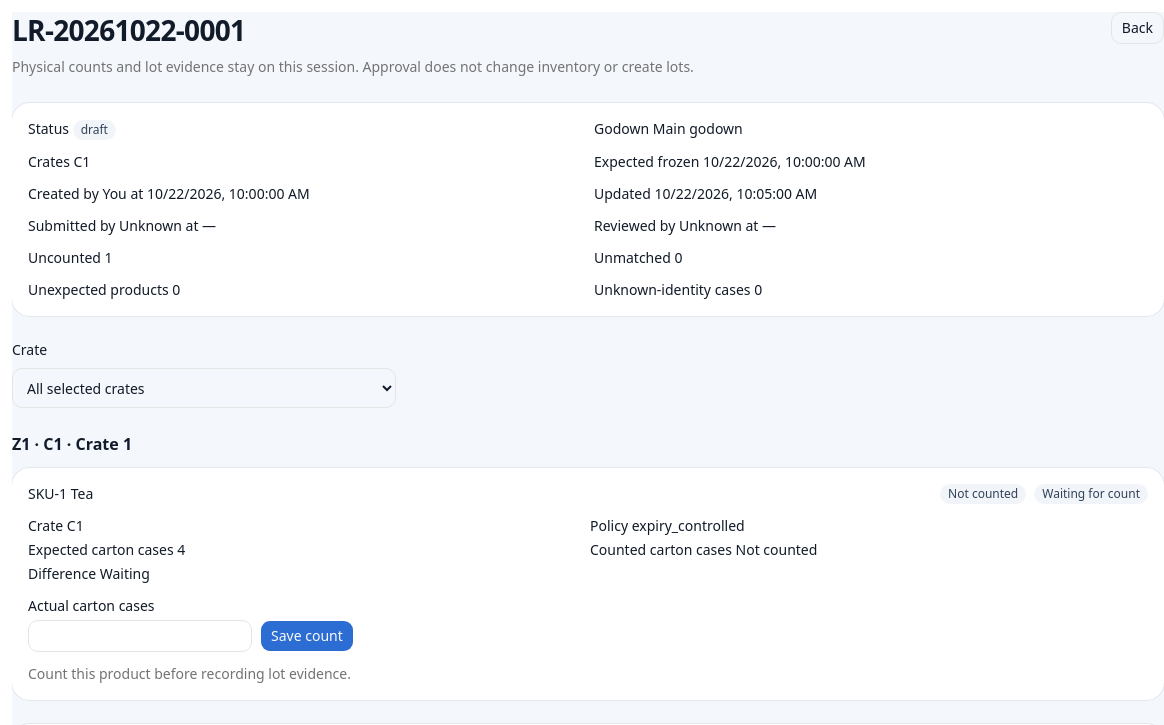
Test: lot reconciliation pages › refetches on PT409 and does not replay the stale count
The image size is (1164, 725).
Type "4" into the field named "Count SKU-1". click: (140, 636)
box: [28,620,252,652]
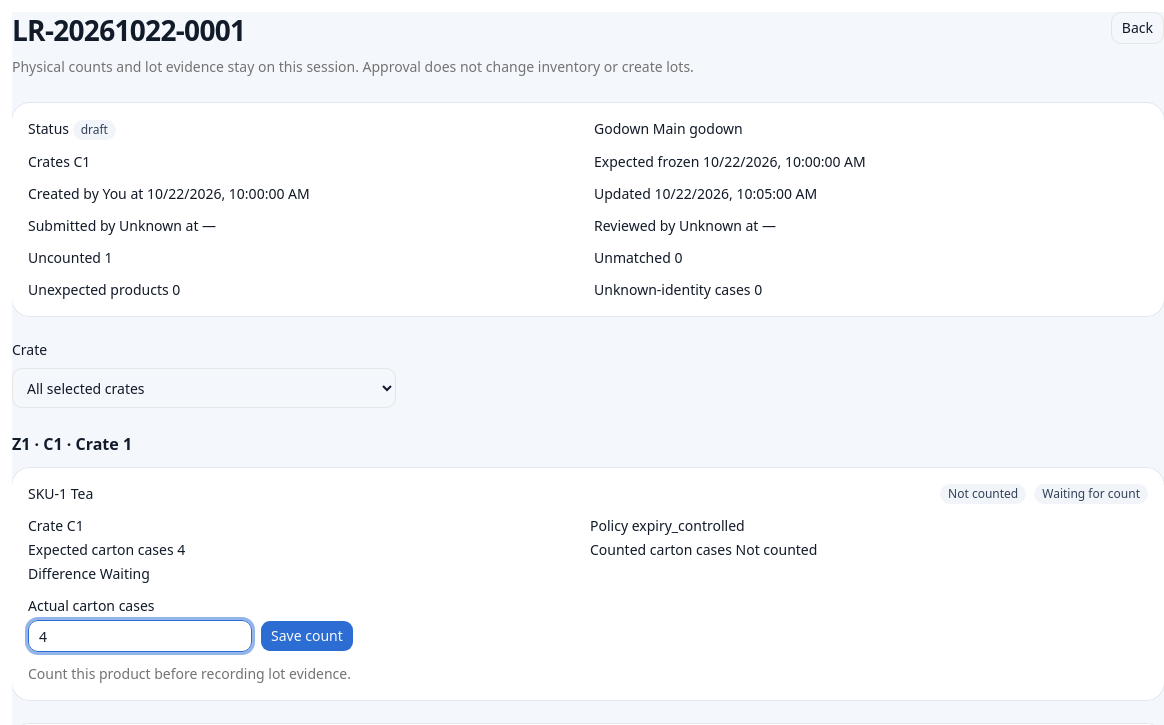
Click the button "Save count". click: (307, 636)
box: [260,620,354,652]
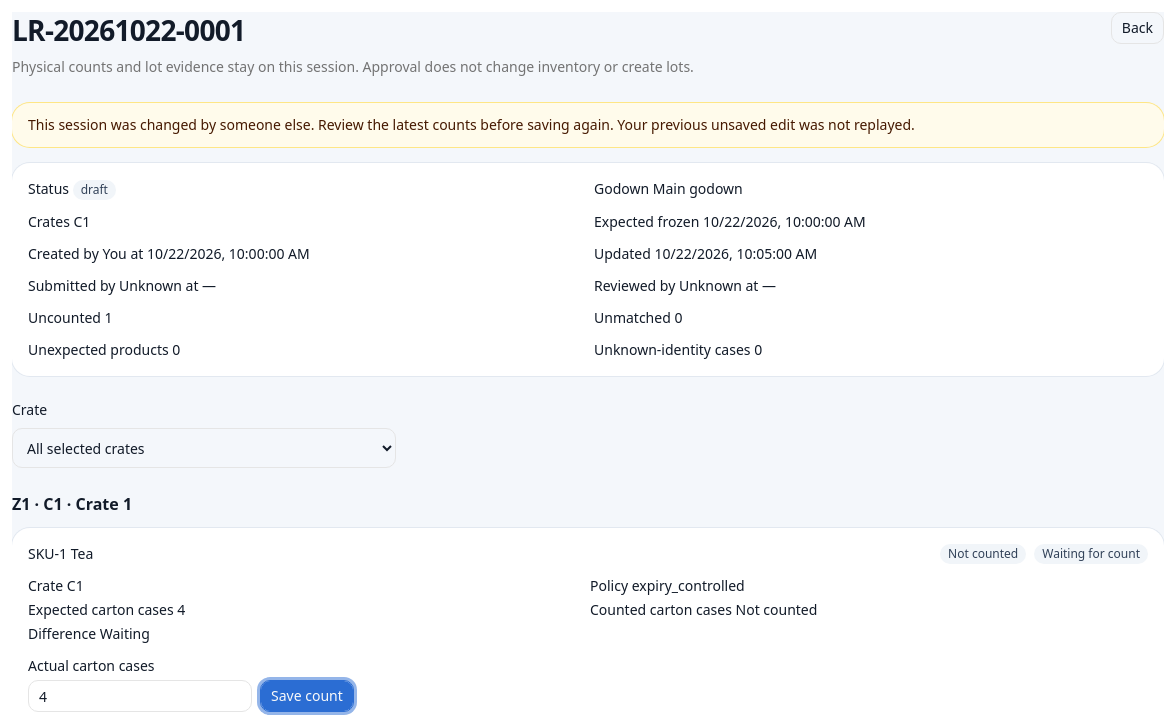
Result: the text "This session was changed by someone else" is shown at [28,115,915,134]
